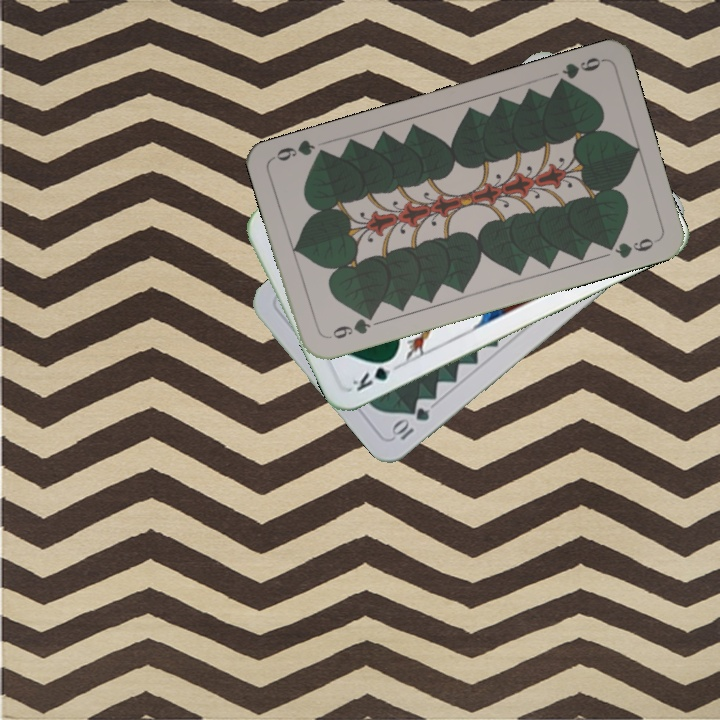G10: (388, 403, 433, 443)
G9: (551, 53, 606, 90), (323, 310, 378, 342)
GK: (348, 353, 404, 394)
